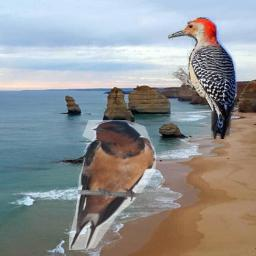Swallow: (69, 120, 156, 250)
Woodpecker: (168, 17, 237, 139)
